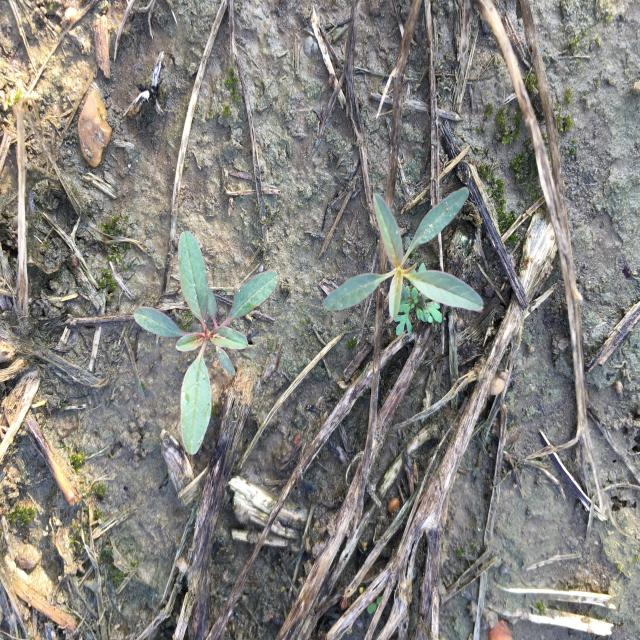Ragweed: (396, 279, 445, 338)
Waterhemp: (132, 227, 281, 457), (322, 185, 486, 321)
